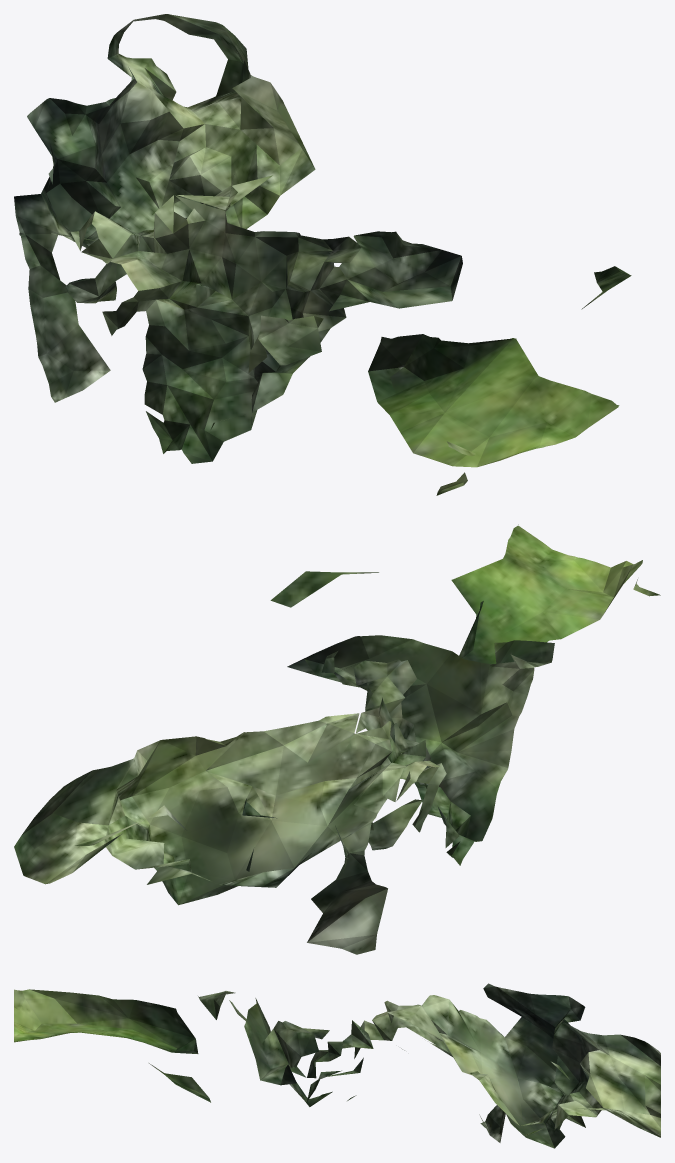
3 renders of one model, top to bottom at view 1: azimuth 30°, elevation 25°; view 2: azimuth 150°, elevation 25°; view 3: azimuth 270°, elevation 25°, orthographic. The views are drawn at different scales.
Bounding box in the file's own units: 43.05 × 25.53 × 104.
Materials: 1 (1 with a texture image).
